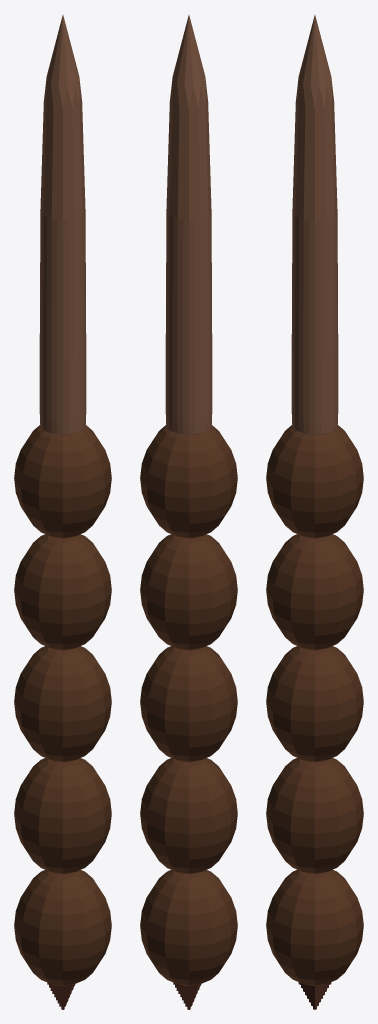
Rendered from Wand 204.glb.
The picture shows the model from 3 angles, left to right: view 1: azimuth 30°, elevation 25°; view 2: azimuth 210°, elevation 25°; view 3: azimuth 270°, elevation 25°; orthographic projection.
Visible parts, largest first — view 1: GeneratedWand; view 2: GeneratedWand; view 3: GeneratedWand.
Part boxes in pixels (x1=…): GeneratedWand: x1=14, y1=15, x2=111, y2=1009; GeneratedWand: x1=140, y1=15, x2=237, y2=1009; GeneratedWand: x1=266, y1=15, x2=363, y2=1009.
Size of the model in its own units: 0.0447 by 0.5045 by 0.0449.
